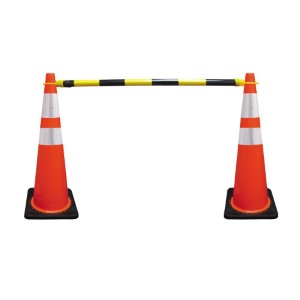traffic cone: (23, 72, 78, 219), (223, 72, 277, 219)
